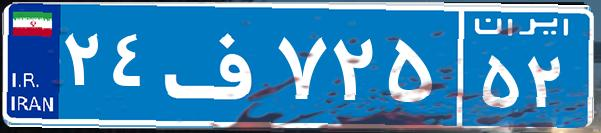2: (330, 28, 385, 110), (57, 26, 110, 107), (525, 38, 570, 115)
4: (110, 28, 158, 105)
5: (385, 28, 445, 110), (475, 38, 525, 113)
7: (273, 28, 330, 110)
ف: (158, 15, 273, 115)
